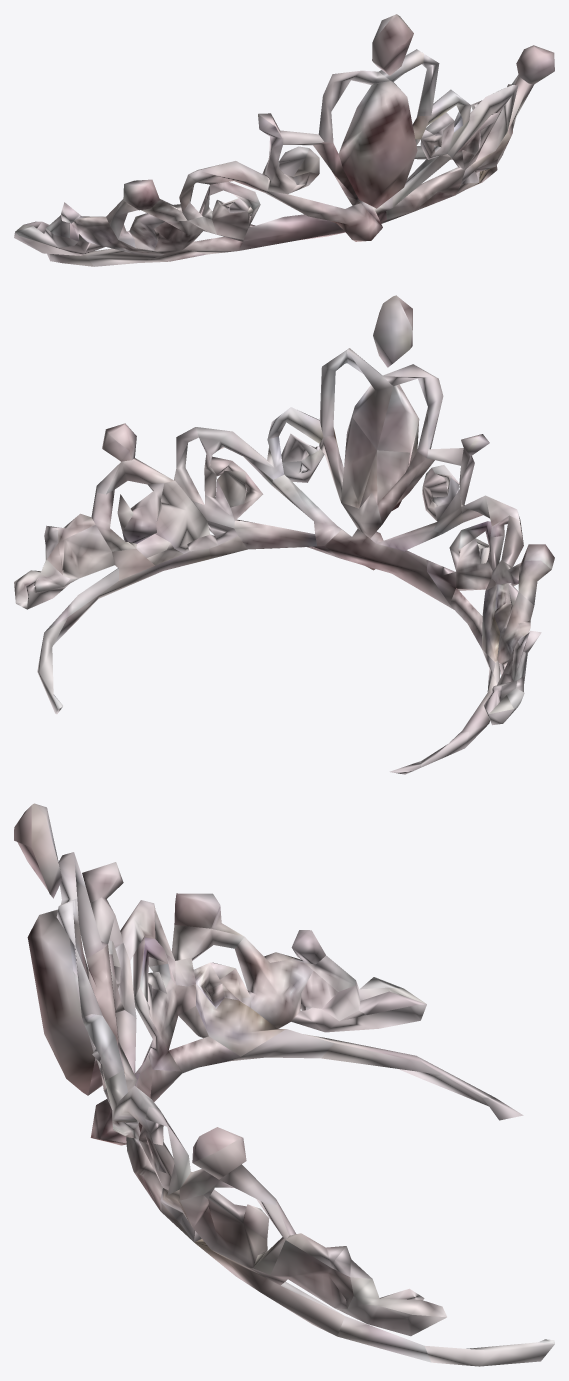
The picture shows the model from 3 angles, top to bottom: view 1: azimuth 30°, elevation 25°; view 2: azimuth 150°, elevation 25°; view 3: azimuth 270°, elevation 25°; orthographic projection. The views are drawn at different scales.
Visible parts, largest first — view 1: Silver-Tiara-11; view 2: Silver-Tiara-11; view 3: Silver-Tiara-11.
Part boxes in pixels (bbox=[...]): Silver-Tiara-11: bbox=[14, 14, 554, 266]; Silver-Tiara-11: bbox=[14, 295, 554, 774]; Silver-Tiara-11: bbox=[14, 803, 554, 1366].
Size of the model in its own units: 0.3064 by 0.1901 by 0.2071.
1 material, 1 textured.
